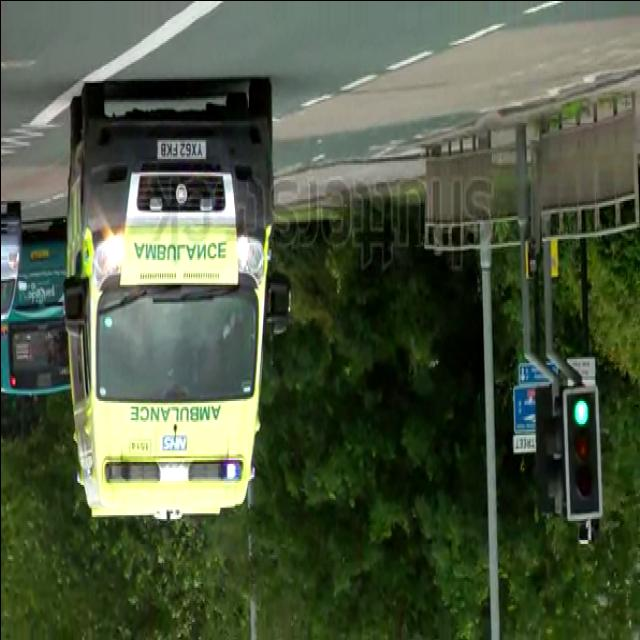ambulance: (63, 82, 292, 520)
